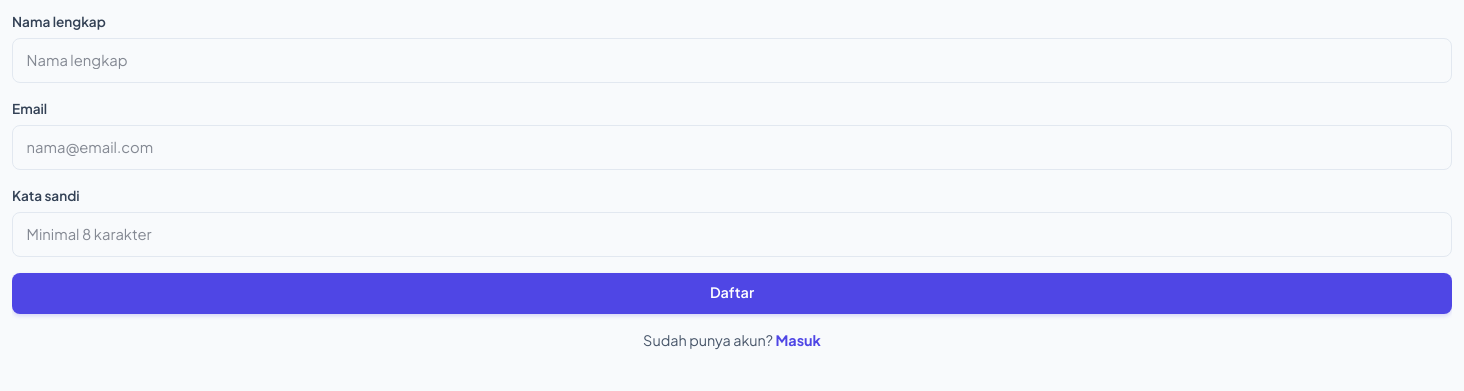
Test: RegisterForm › menolak kata sandi yang terlalu pendek
Type "Lyson" into the field labelled "Nama lengkap" at (732, 60), box [12, 38, 1452, 83]
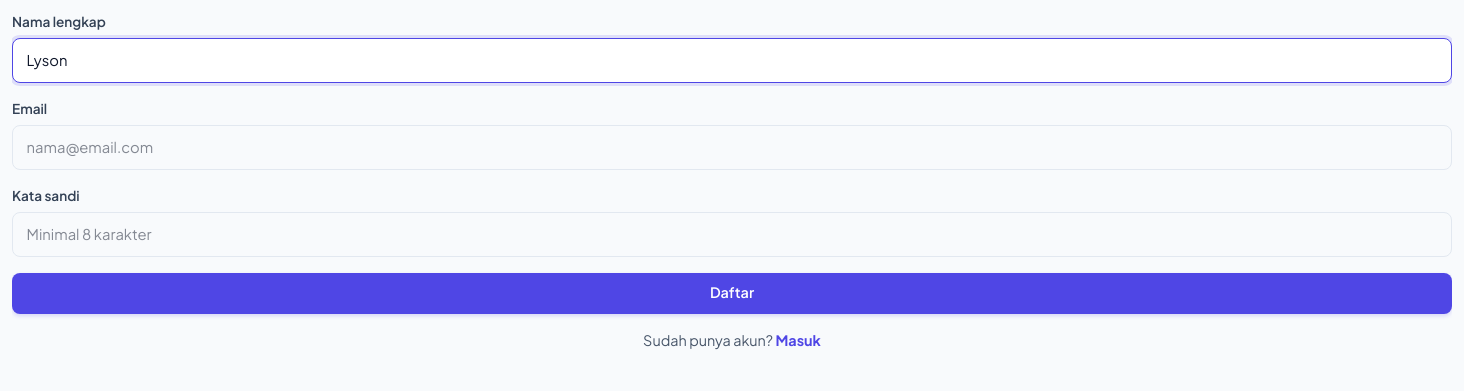
Type "lyson@example.com" into the field labelled "Email" at (732, 147), box [12, 125, 1452, 170]
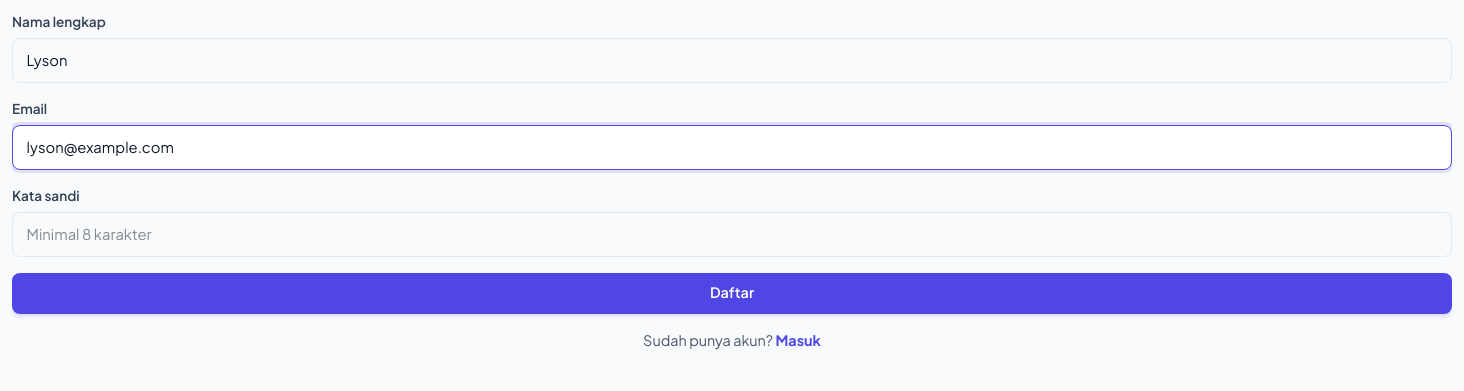
Type "123" into the password field labelled "Kata sandi" at (732, 234), box [12, 212, 1452, 257]
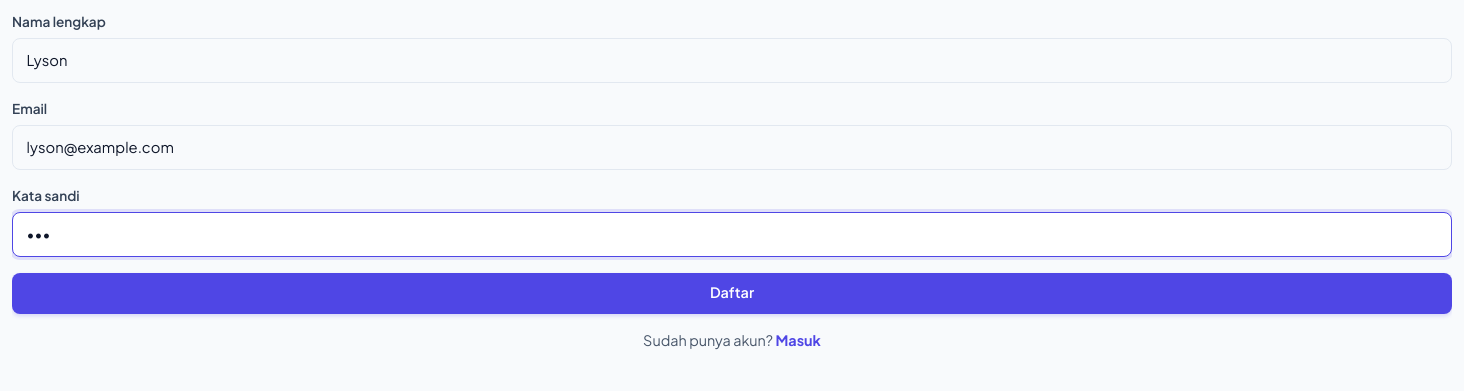
Click the button "Daftar" at (732, 293), box [12, 273, 1452, 314]
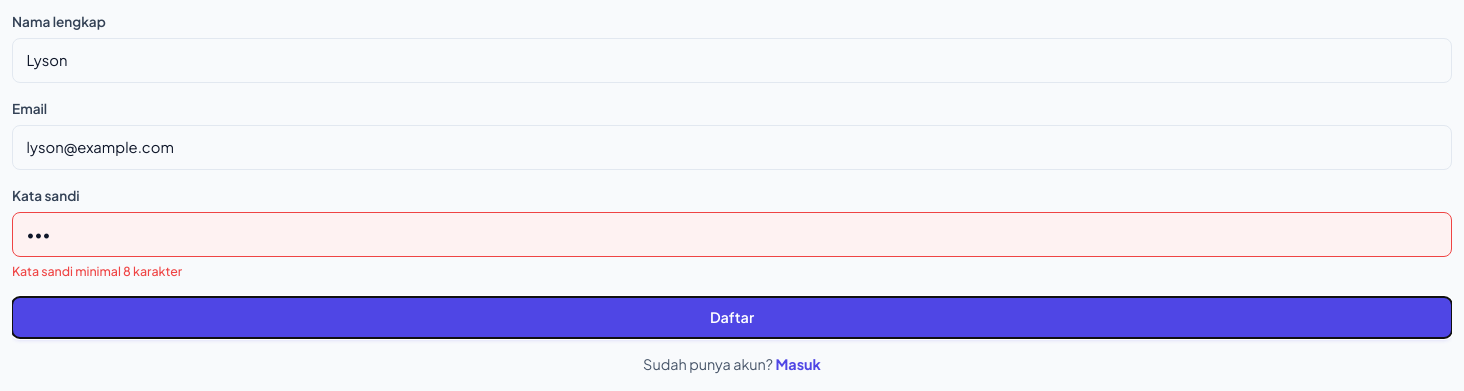
expect the text "Kata sandi minimal 8 karakter" is shown: met, box [12, 264, 182, 280]
